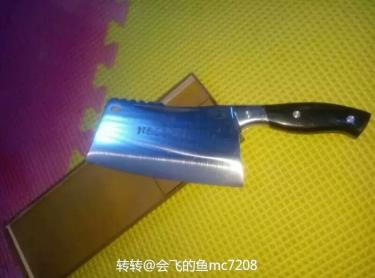knief: (75, 86, 372, 175)
